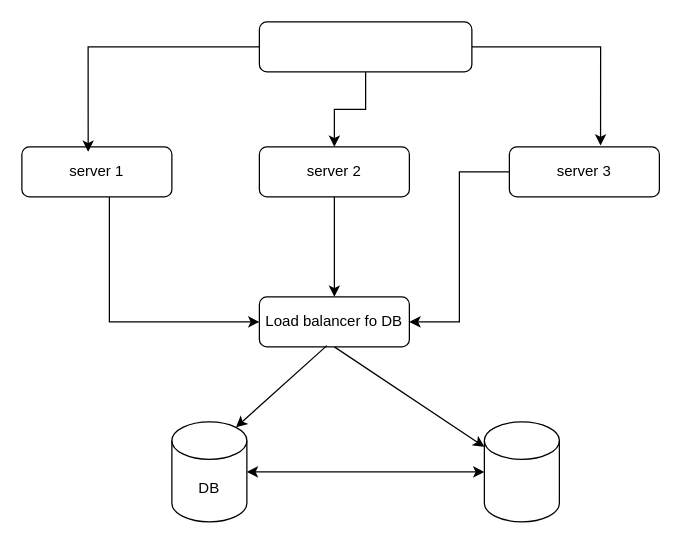
This 681x544 diagram has some shape labels left out. Each missing label, with the centre of its shape:
"DB1" goes at pixel 521 471.
"Load balancer" goes at pixel 365 46.
